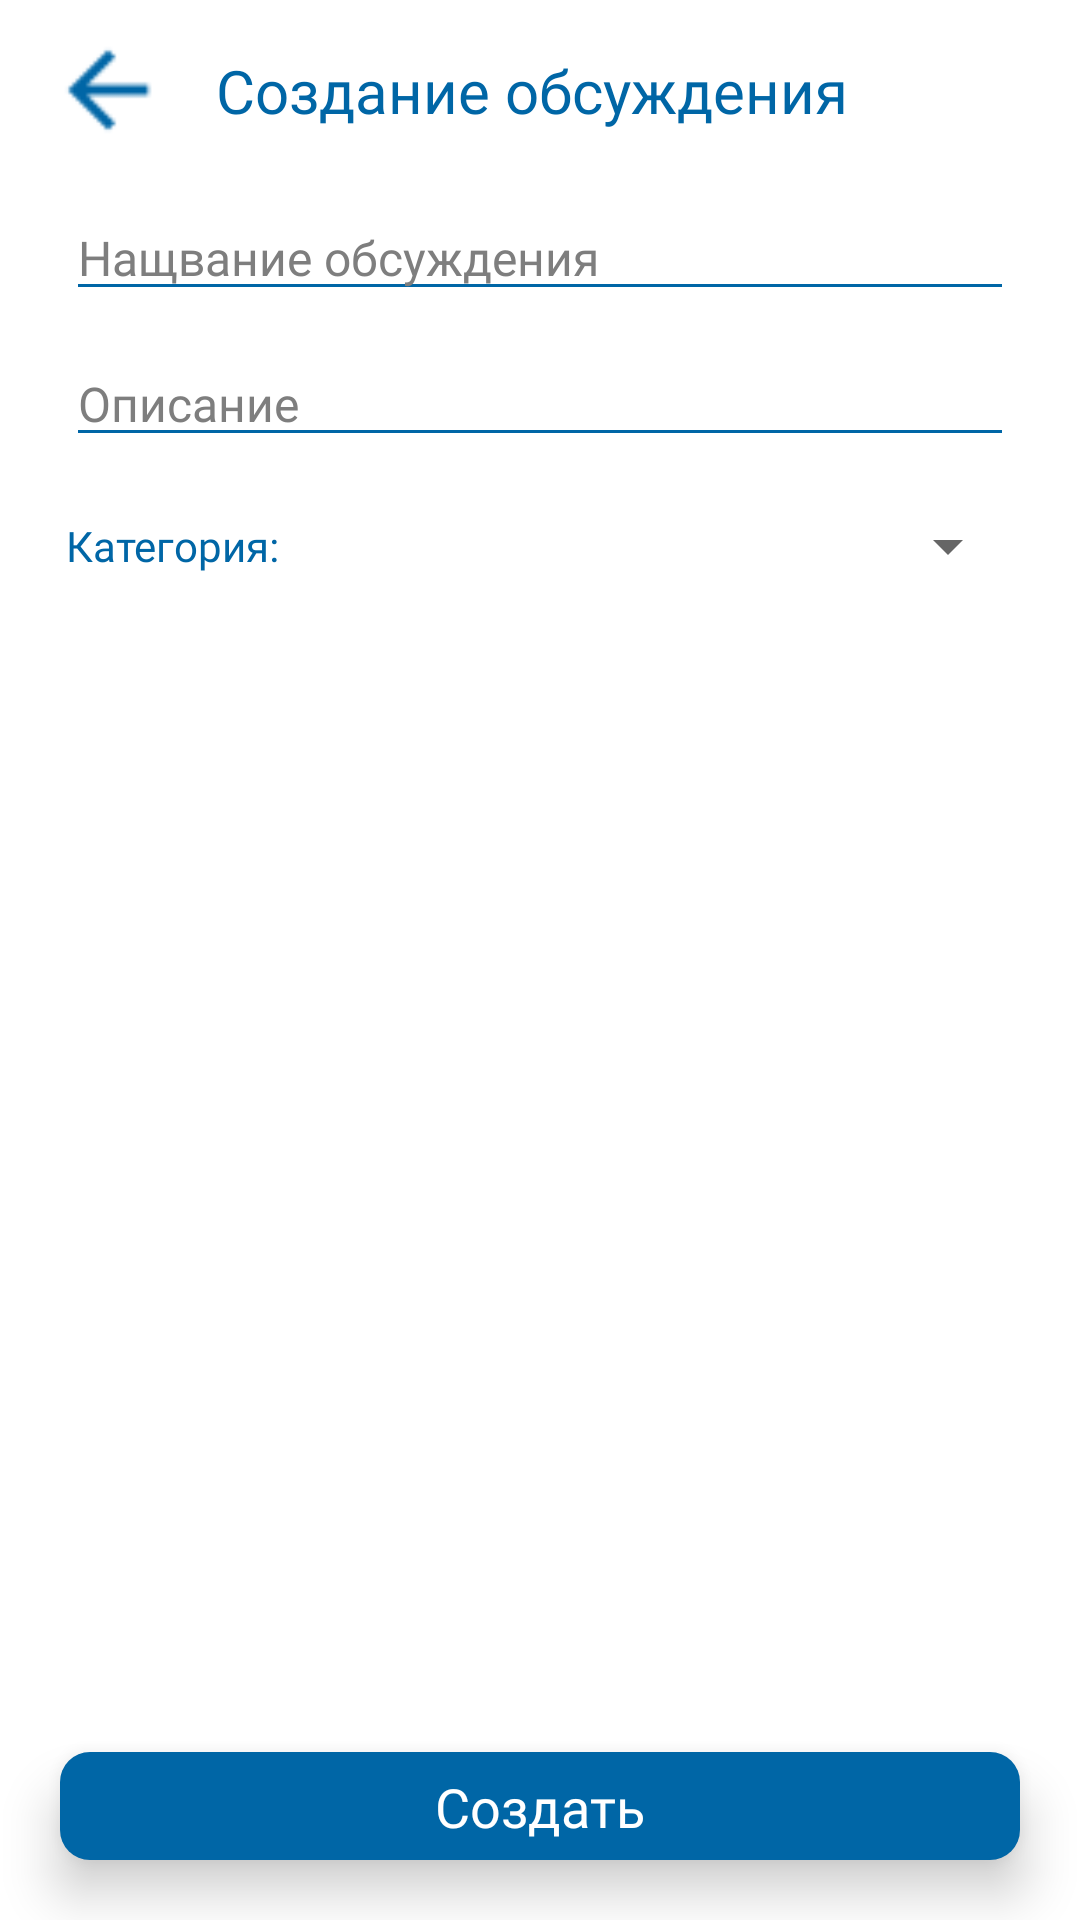

Where icons sit on this 1080 x 1920 app screen, as (x1, y1, x2, y2):
arrow back: (68, 50, 151, 130)
